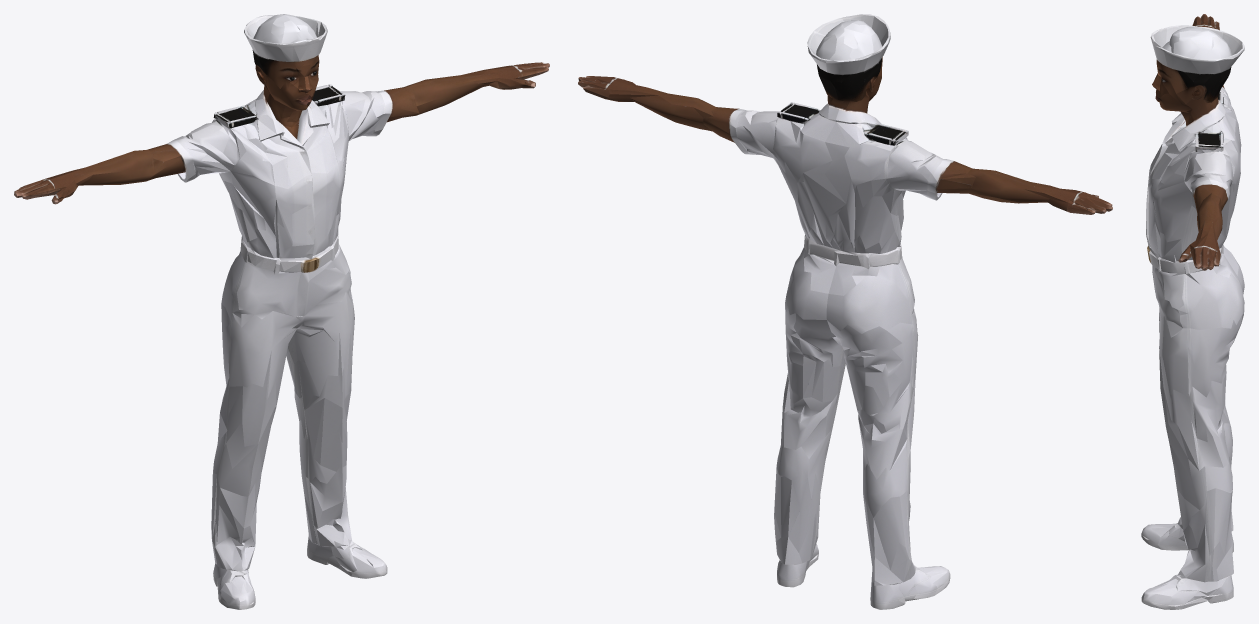
Rendered from image3d.glb.
3 views of the same model, side by side, from view 1: azimuth 30°, elevation 25°; view 2: azimuth 150°, elevation 25°; view 3: azimuth 270°, elevation 25° (orthographic). The views are drawn at different scales.
Bounding box in the file's own units: 1.9 × 1.9 × 0.3275.
1 material, 1 textured.
